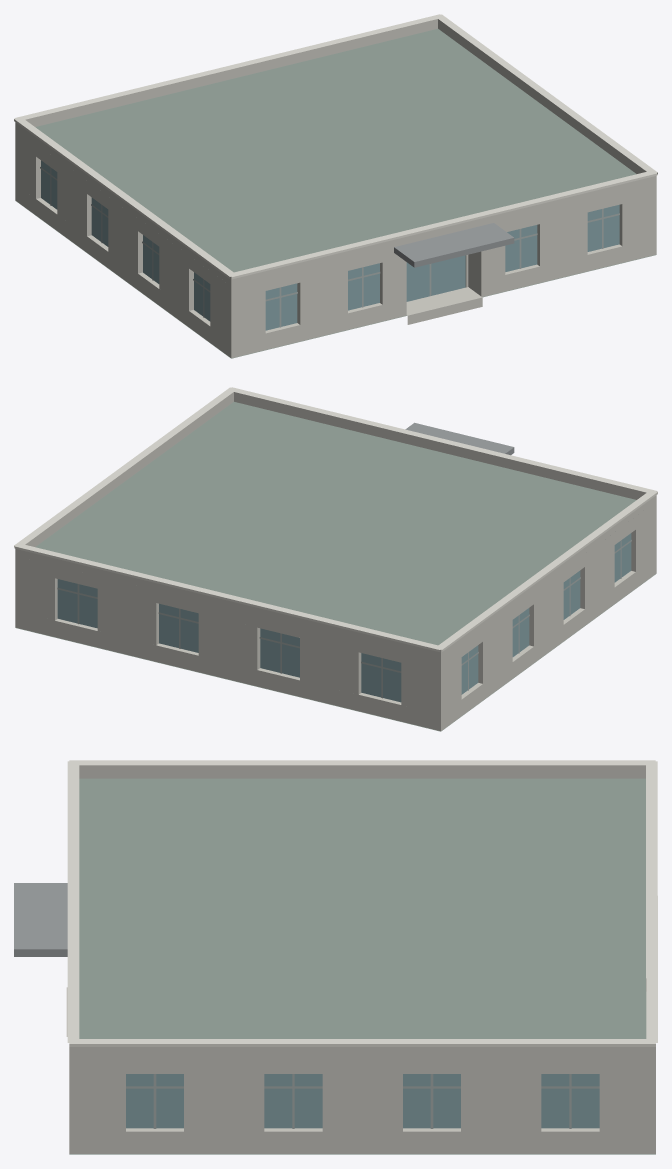
The picture shows the model from 3 angles, top to bottom: view 1: azimuth 30°, elevation 25°; view 2: azimuth 150°, elevation 25°; view 3: azimuth 270°, elevation 25°; orthographic projection. The views are drawn at different scales.
Visible parts, largest first — view 1: aux-580372134__roof, aux-580372134__wall, aux-580372134__parapet, aux-580372134__glass, aux-580372134__trim, aux-580372134__canopy, aux-580372134__entranceThreshold_0, aux-580372134__frame; view 2: aux-580372134__roof, aux-580372134__wall, aux-580372134__parapet, aux-580372134__trim, aux-580372134__glass, aux-580372134__frame, aux-580372134__canopy; view 3: aux-580372134__roof, aux-580372134__wall, aux-580372134__trim, aux-580372134__parapet, aux-580372134__glass, aux-580372134__canopy, aux-580372134__frame.
Boxes of the visible parts, x1,y1,x2,y2 form: aux-580372134__roof: [15, 29, 656, 358]; aux-580372134__wall: [15, 129, 656, 358]; aux-580372134__parapet: [15, 19, 656, 286]; aux-580372134__glass: [41, 160, 619, 330]; aux-580372134__trim: [14, 14, 657, 279]; aux-580372134__canopy: [394, 223, 514, 267]; aux-580372134__entranceThreshold_0: [406, 287, 482, 324]; aux-580372134__frame: [40, 167, 619, 327]; aux-580372134__roof: [15, 402, 656, 731]; aux-580372134__wall: [15, 501, 656, 731]; aux-580372134__parapet: [15, 392, 656, 659]; aux-580372134__trim: [14, 387, 657, 651]; aux-580372134__glass: [57, 533, 631, 702]; aux-580372134__frame: [57, 540, 631, 698]; aux-580372134__canopy: [405, 422, 514, 455]; aux-580372134__roof: [69, 778, 655, 1154]; aux-580372134__wall: [69, 1056, 655, 1153]; aux-580372134__trim: [67, 760, 657, 1046]; aux-580372134__parapet: [69, 765, 655, 1056]; aux-580372134__glass: [126, 1074, 599, 1128]; aux-580372134__canopy: [14, 883, 67, 956]; aux-580372134__frame: [126, 1074, 599, 1128].
Size of the model in its own units: 20.56 by 4.15 by 19.73.
